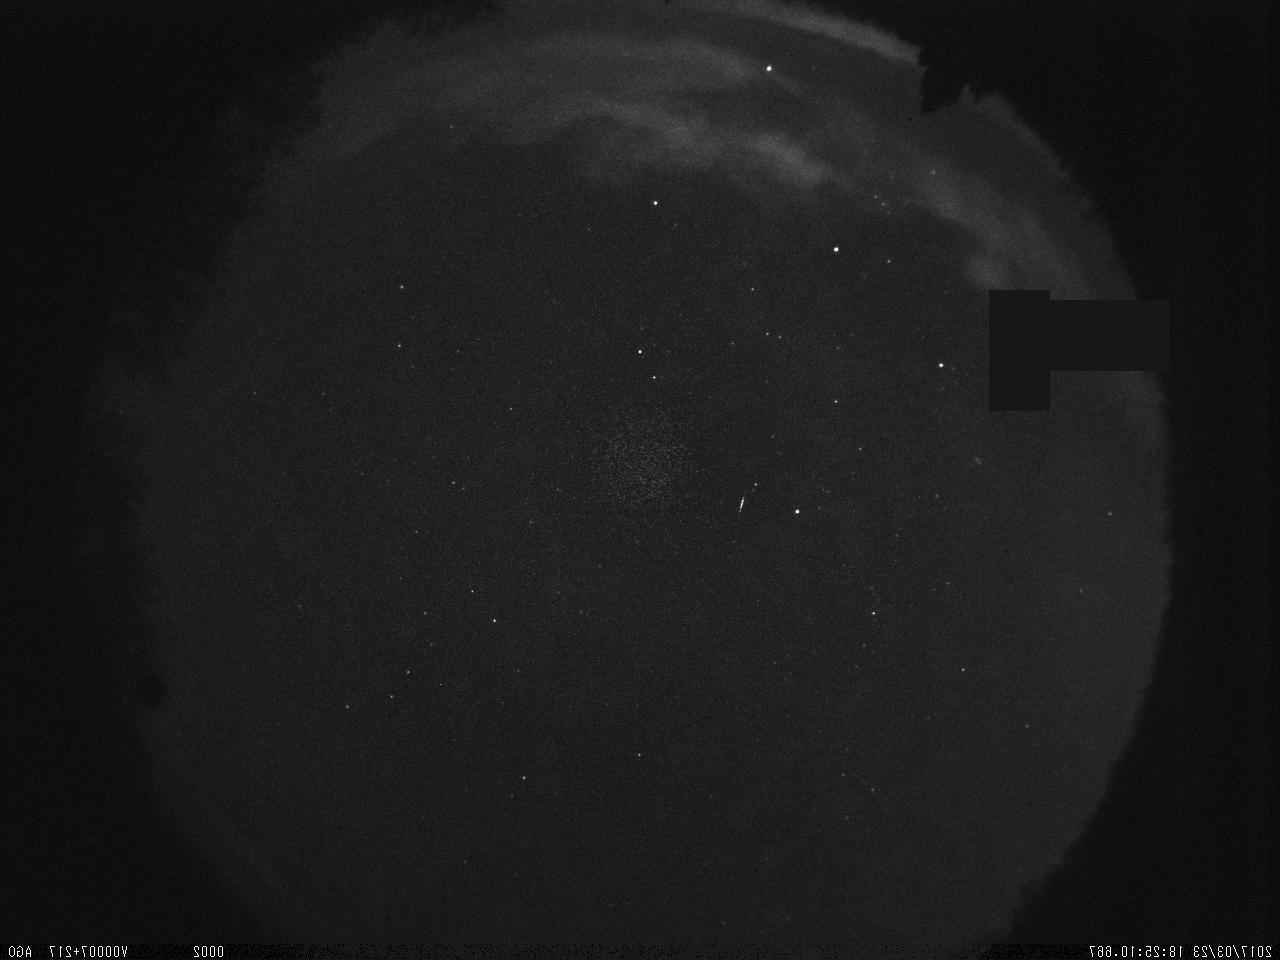meteor: (728, 492, 753, 524)
